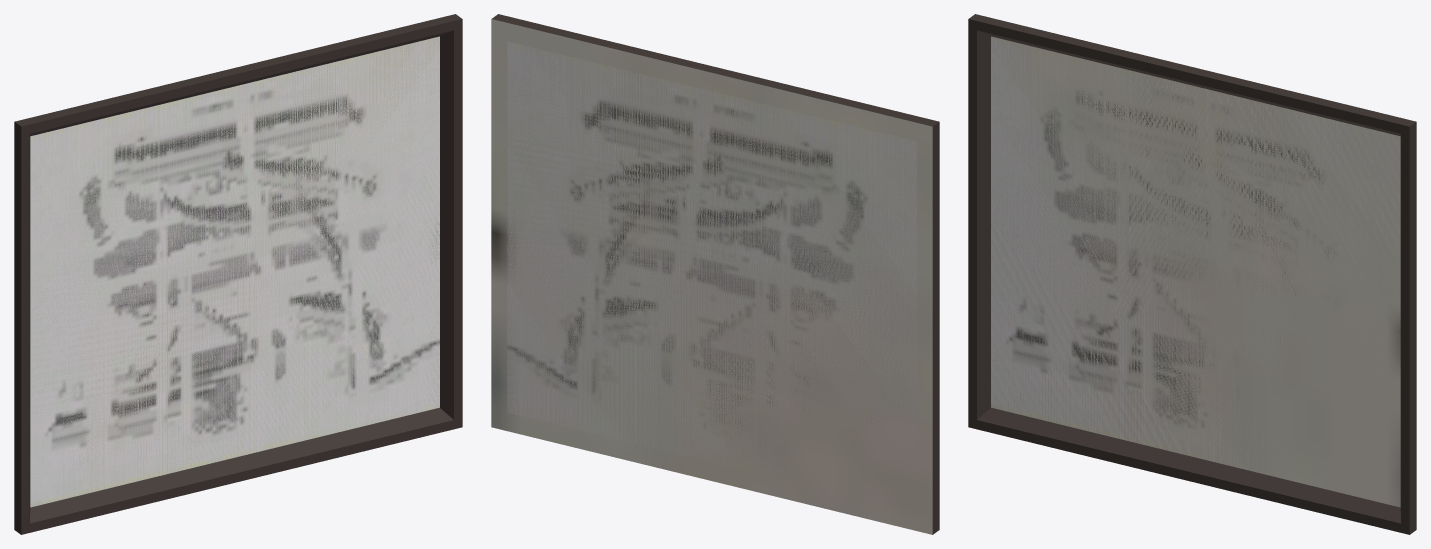
File: diploma04_wau.dae
3 views of the same model, side by side, from view 1: azimuth 30°, elevation 25°; view 2: azimuth 150°, elevation 25°; view 3: azimuth 330°, elevation 25° (orthographic).
Visible parts, largest first — view 1: pPlane6; view 2: pPlane6; view 3: pPlane6.
Boxes of the visible parts, box(x1,y1,x2,y2) form: pPlane6: box(14, 14, 462, 534); pPlane6: box(491, 14, 939, 534); pPlane6: box(968, 14, 1416, 534).
Bounding box in the file's own units: 26.66 × 23.58 × 0.7117.
